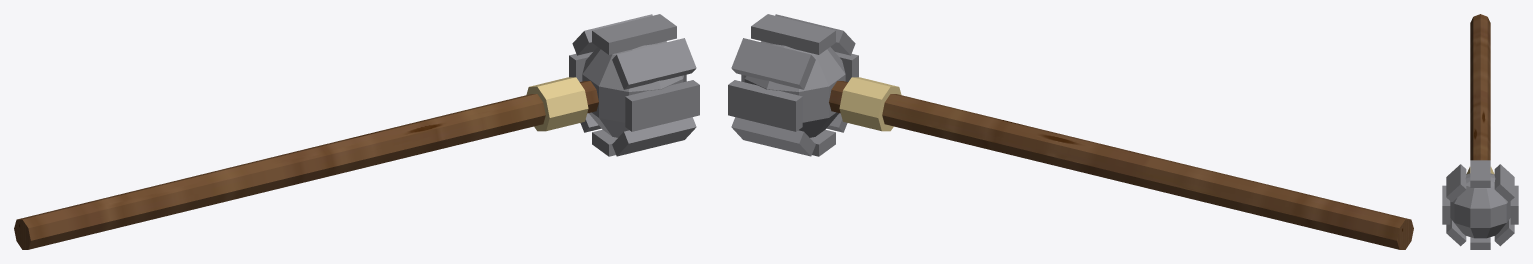
Rendered from persian_mace_gurz.glb.
3 views of the same model, side by side, from view 1: azimuth 30°, elevation 25°; view 2: azimuth 150°, elevation 25°; view 3: azimuth 270°, elevation 25° (orthographic). The views are drawn at different scales.
Visible parts, largest first — view 1: Persian_Mace_Gurz; view 2: Persian_Mace_Gurz; view 3: Persian_Mace_Gurz.
Part boxes in pixels (<box>): Persian_Mace_Gurz: <box>14,14,699,249</box>; Persian_Mace_Gurz: <box>728,14,1413,249</box>; Persian_Mace_Gurz: <box>1442,14,1518,249</box>.
Bounding box in the file's own units: 0.6752 × 0.112 × 0.112.
Materials: 3 (1 with a texture image).
